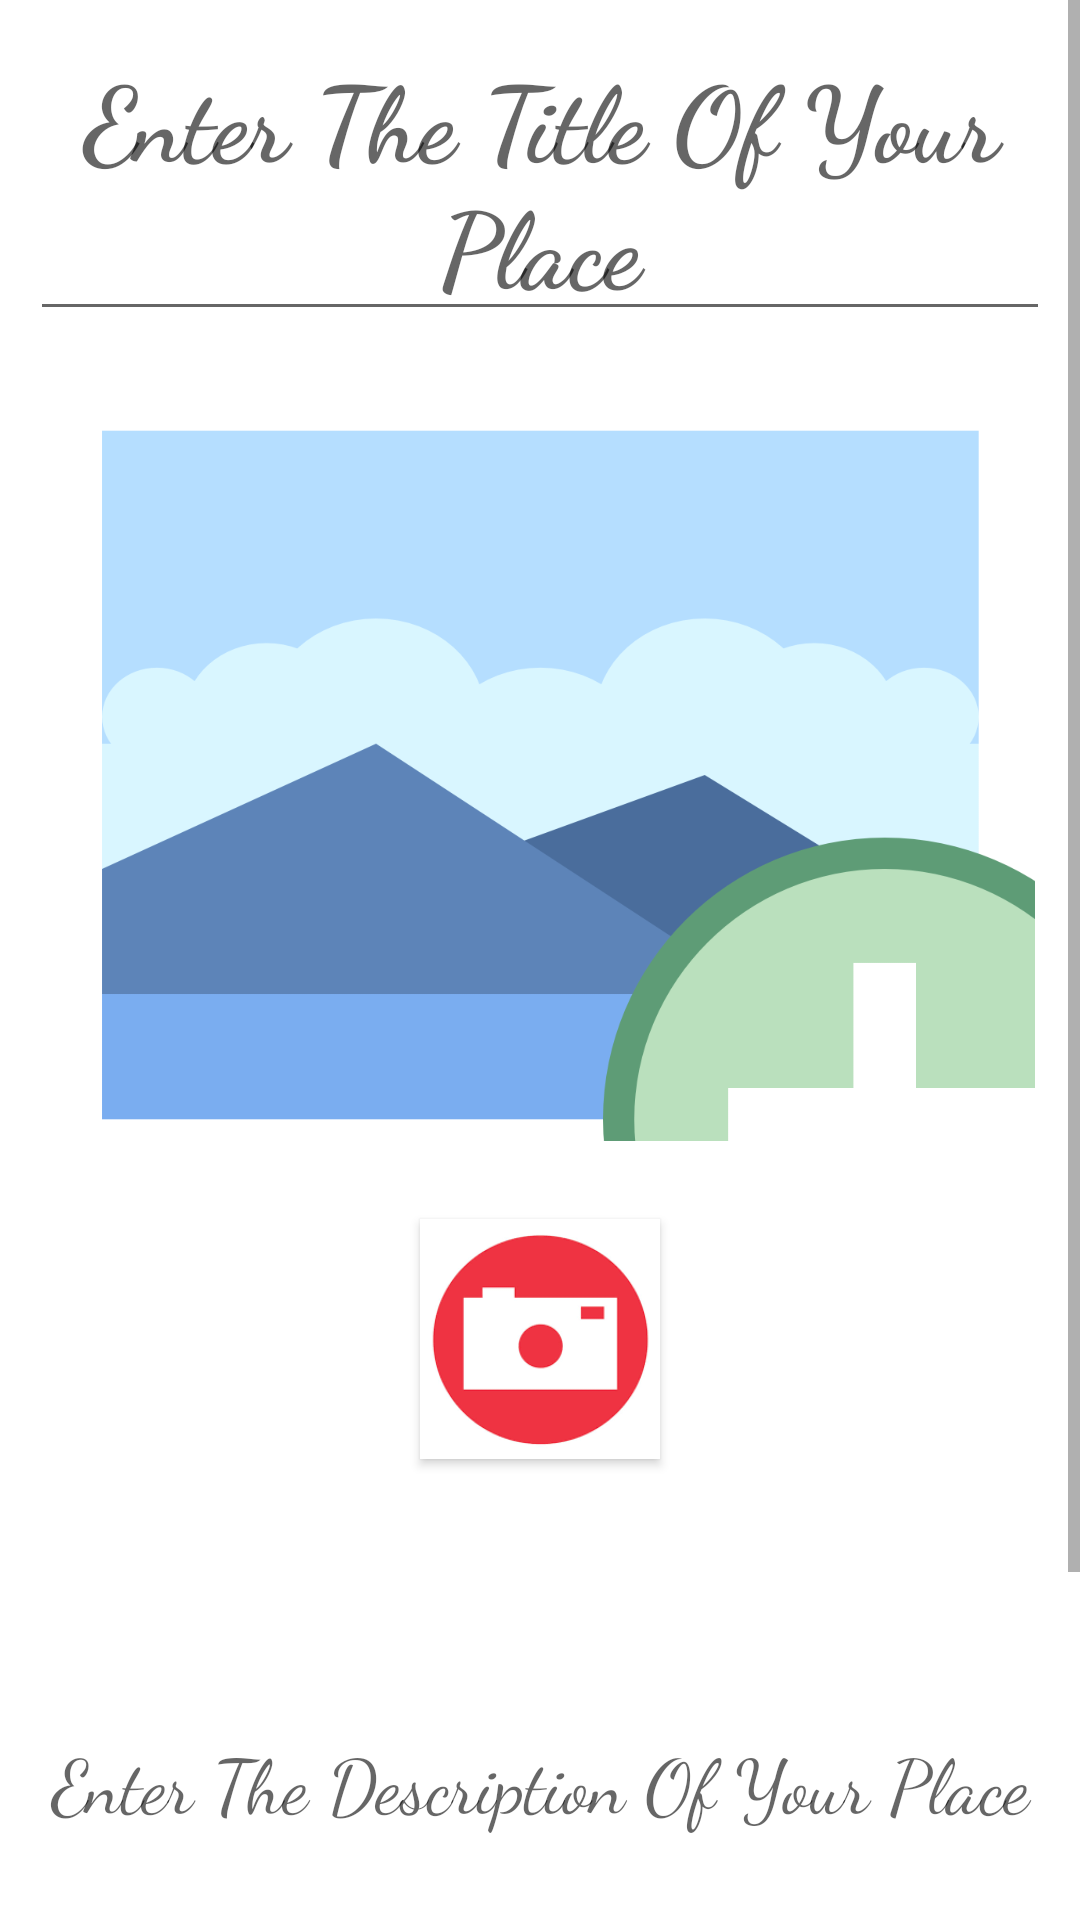

Where to tap for icons on this 1080*1920 app screen, as [x,y]:
cam: [540,1340]
